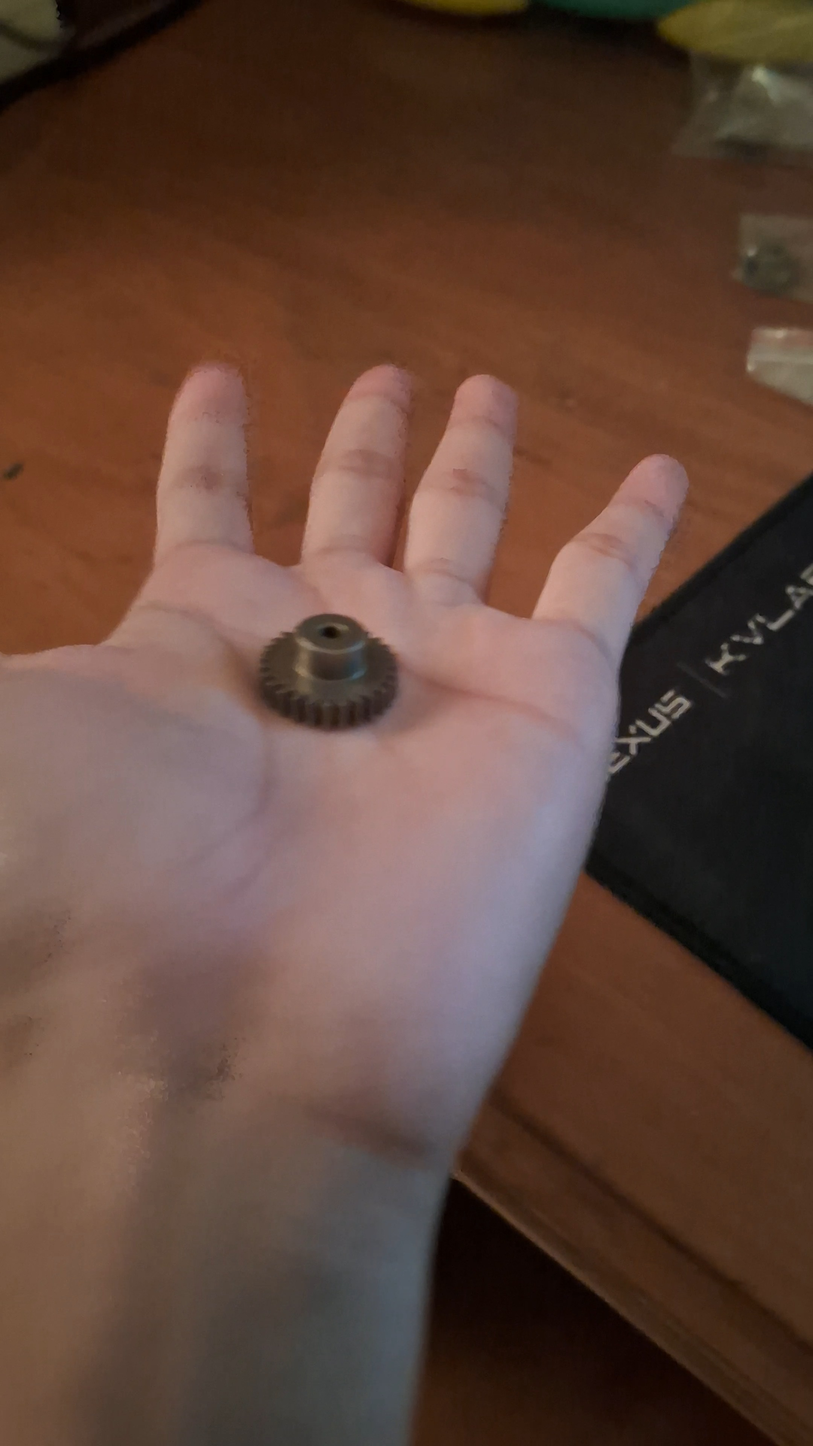spur gear: (259, 613, 398, 731)
